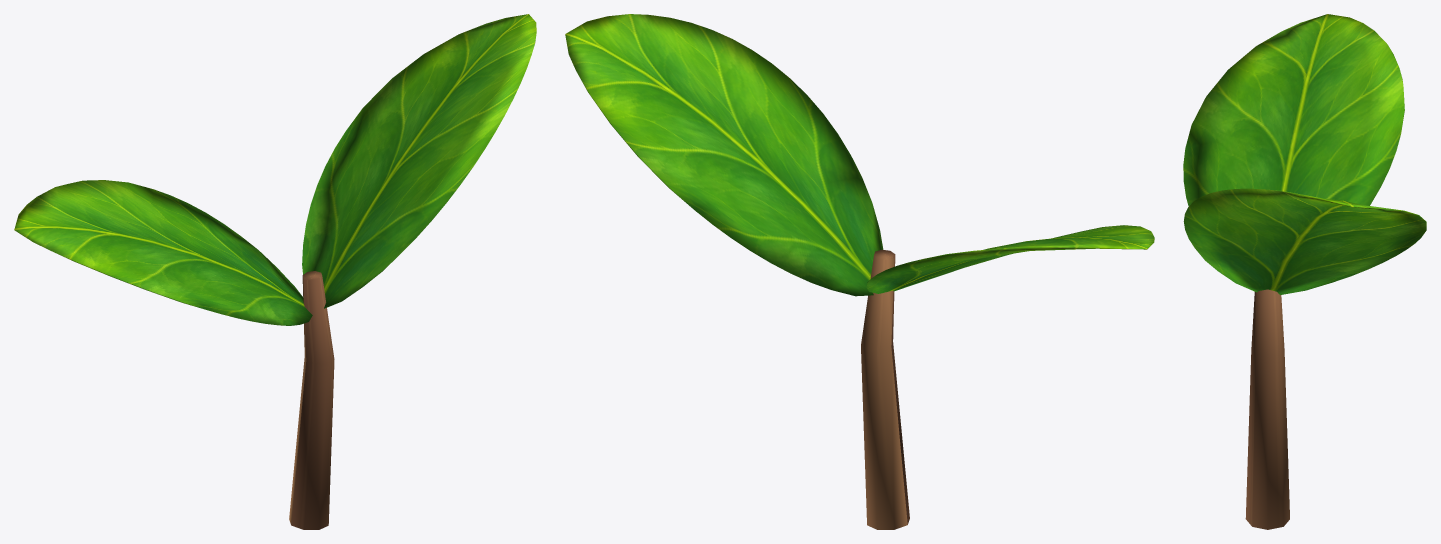
The model's file is NP_Blueberry_Sprout_LOD1.fbx.
The picture shows the model from 3 angles, left to right: view 1: azimuth 30°, elevation 25°; view 2: azimuth 150°, elevation 25°; view 3: azimuth 270°, elevation 25°; orthographic projection. The views are drawn at different scales.
Parts seen in each view (by area): view 1: NP_Blueberry_Sprout; view 2: NP_Blueberry_Sprout; view 3: NP_Blueberry_Sprout.
Boxes of the visible parts, bbox=[...] form: NP_Blueberry_Sprout: bbox=[14, 14, 536, 529]; NP_Blueberry_Sprout: bbox=[565, 14, 1154, 529]; NP_Blueberry_Sprout: bbox=[1183, 14, 1426, 529].
Size of the model in its own units: 29.57 by 22.59 by 10.96.
